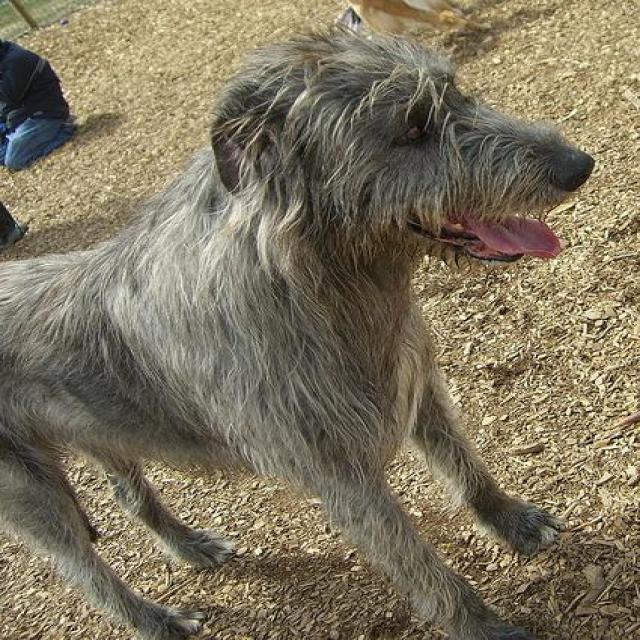irish_wolfhound: (0, 17, 592, 638)
